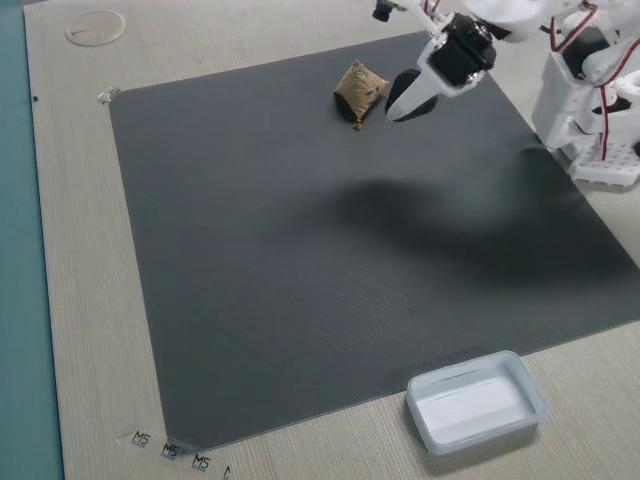gripper: (366, 3, 499, 120)
